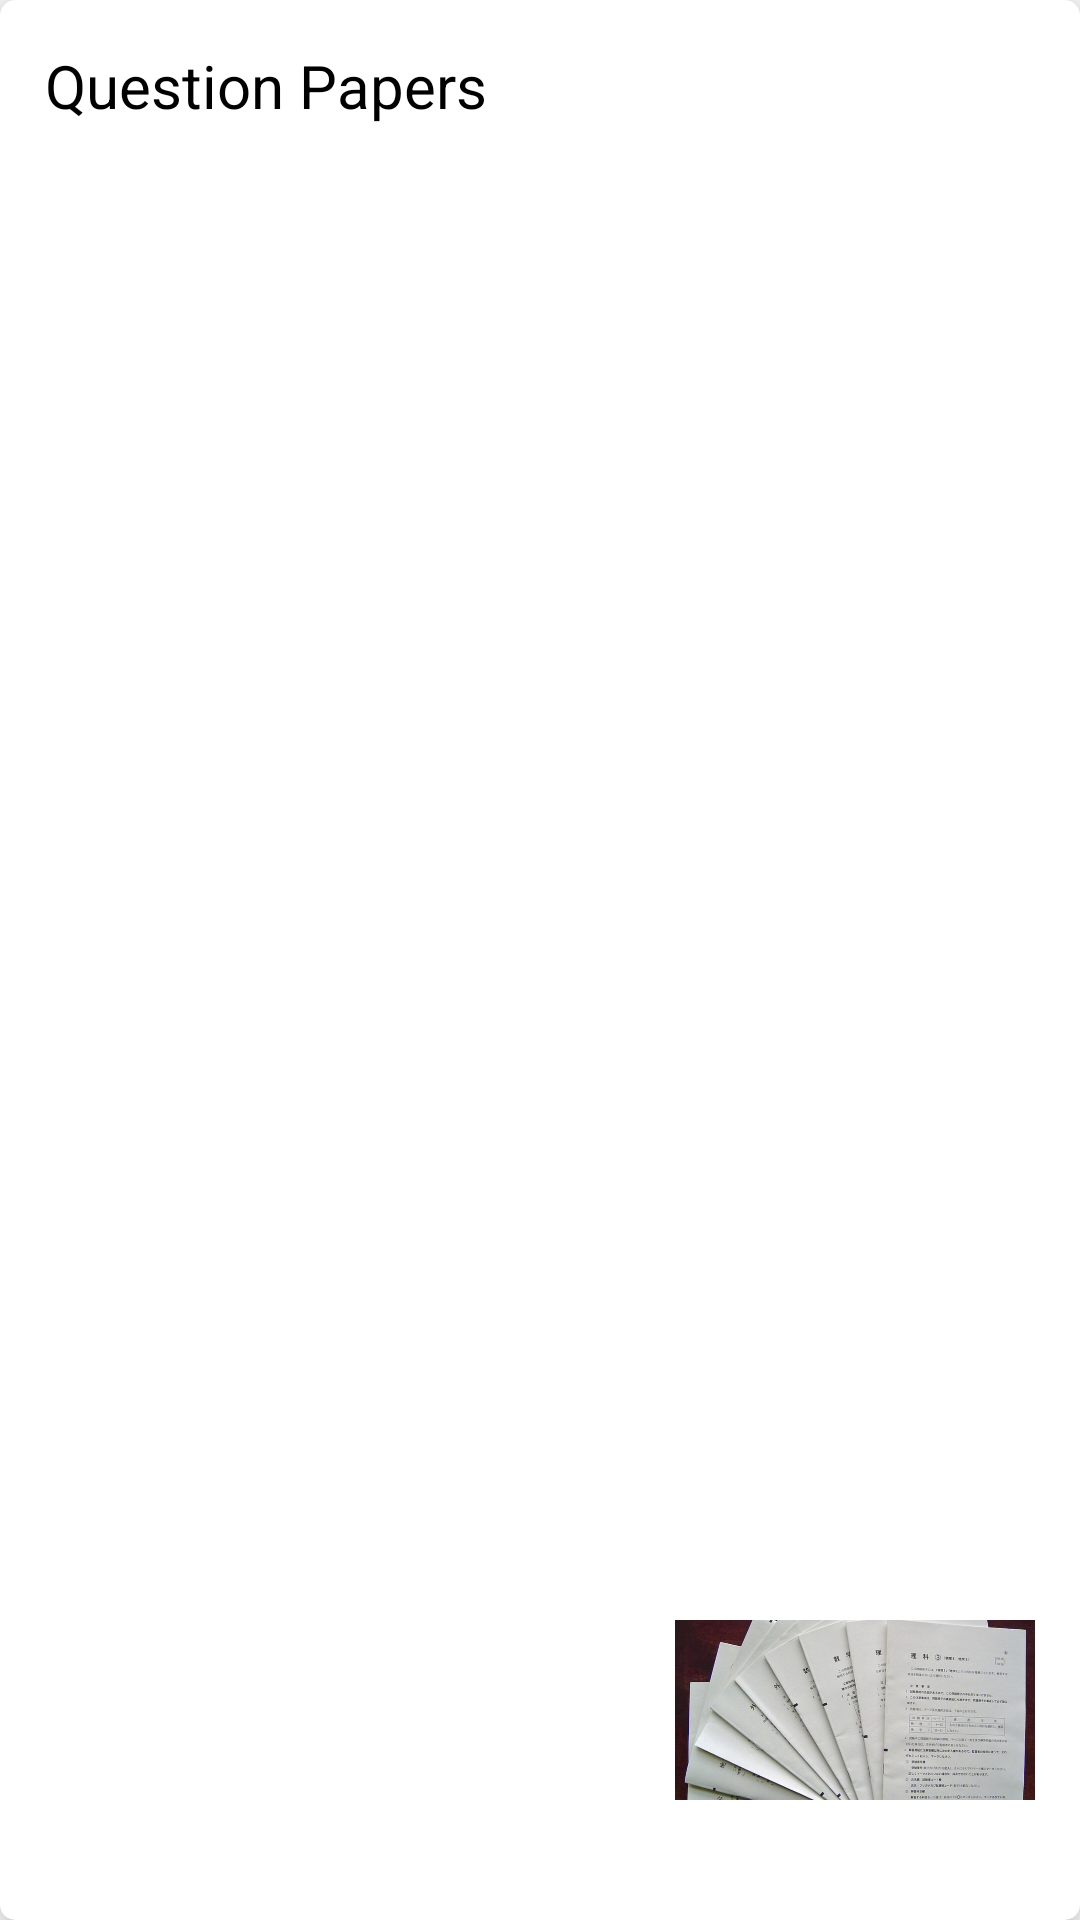

Icons on this 1080 × 1920 Android screen, each with the point to tap as [x,y]:
qpaper: [855,1710]
